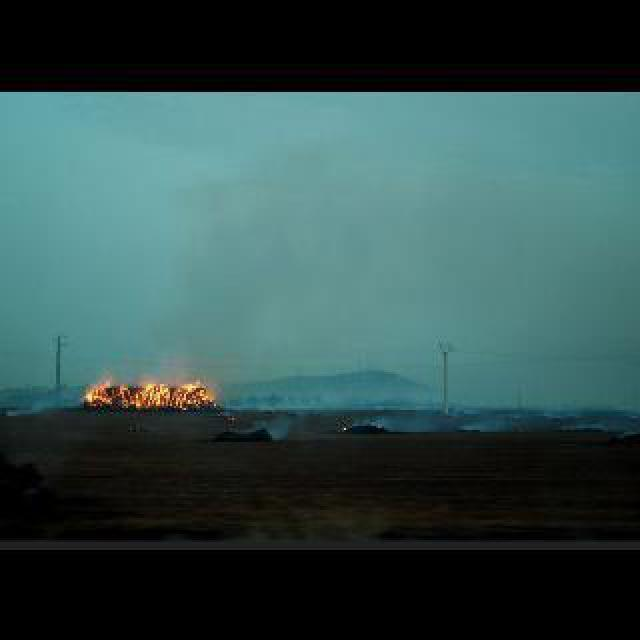Fire: (86, 376, 218, 412)
